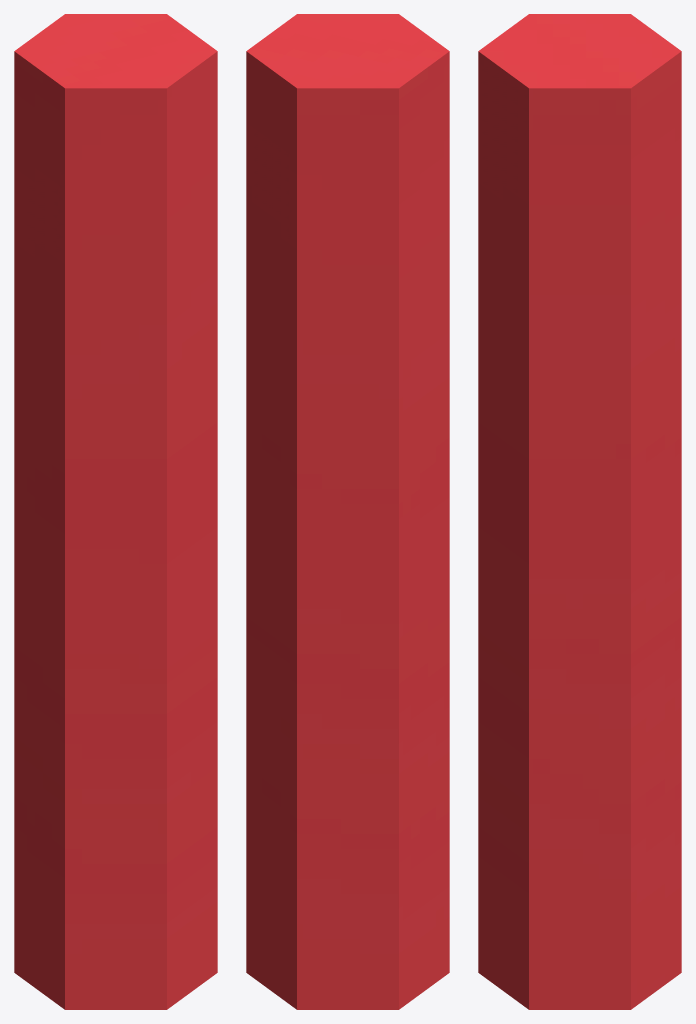
The model's file is interdiction.obj.
The picture shows the model from 3 angles, left to right: view 1: azimuth 30°, elevation 25°; view 2: azimuth 150°, elevation 25°; view 3: azimuth 270°, elevation 25°; orthographic projection.
Size of the model in its own units: 8.66 by 50 by 10.
